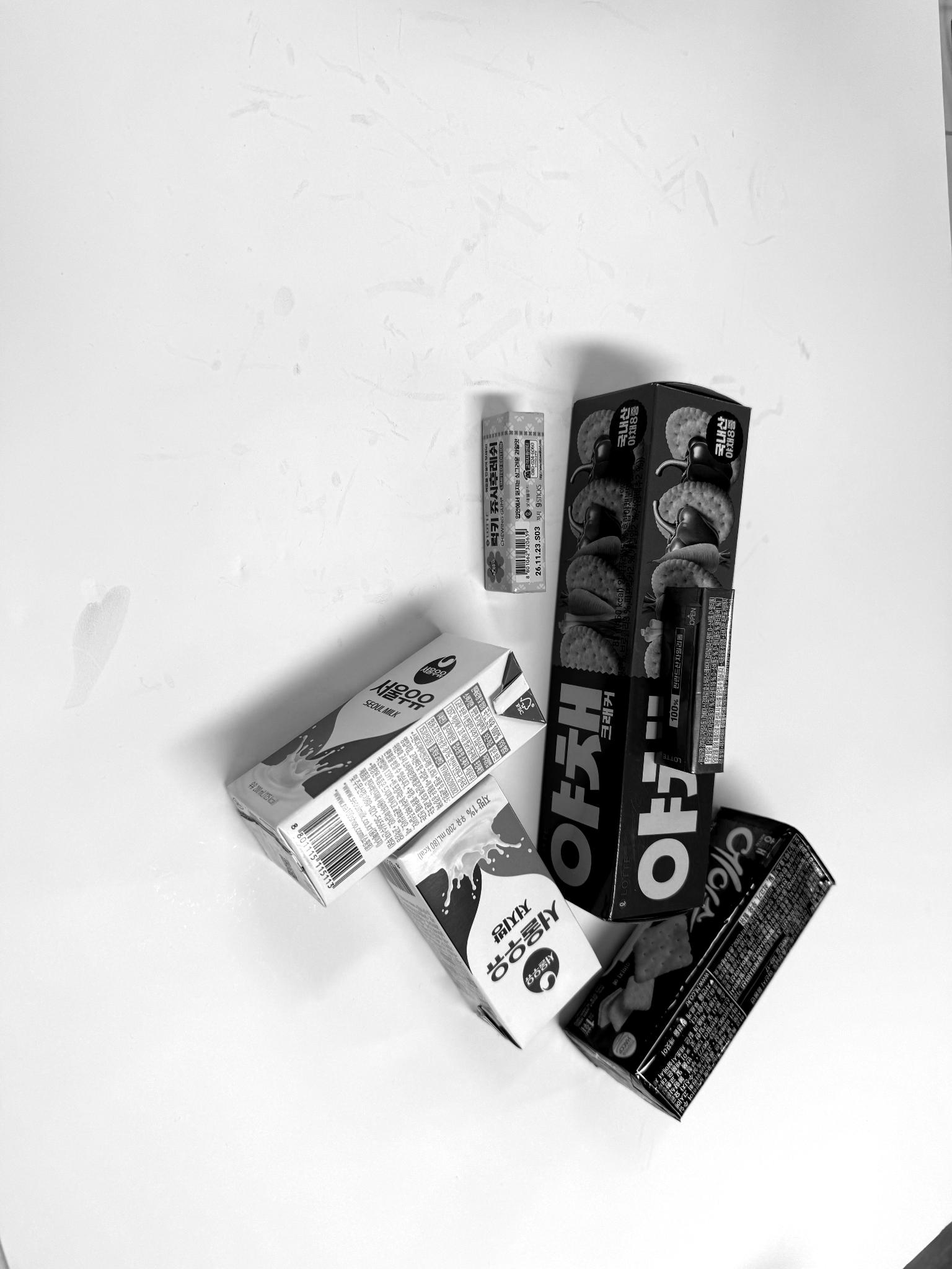cracker_ace: (566, 809, 834, 1119)
cracker_vege: (541, 382, 754, 916)
gum_green: (661, 587, 734, 774)
gum_yellow: (482, 411, 546, 594)
milk_blue: (387, 777, 597, 1047)
milk_green: (229, 634, 544, 906)
